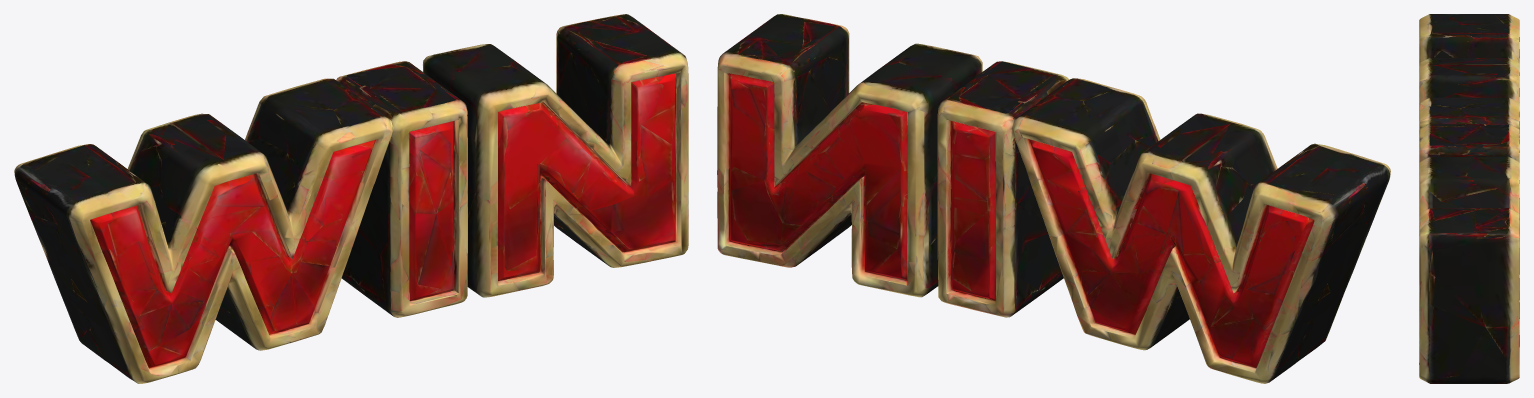
File: win.glb
3 views of the same model, side by side, from view 1: azimuth 30°, elevation 25°; view 2: azimuth 150°, elevation 25°; view 3: azimuth 270°, elevation 25° (orthographic). The views are drawn at different scales.
Bounding box in the file's own units: 1.89 × 0.6139 × 0.3554.
1 material, 1 textured.
